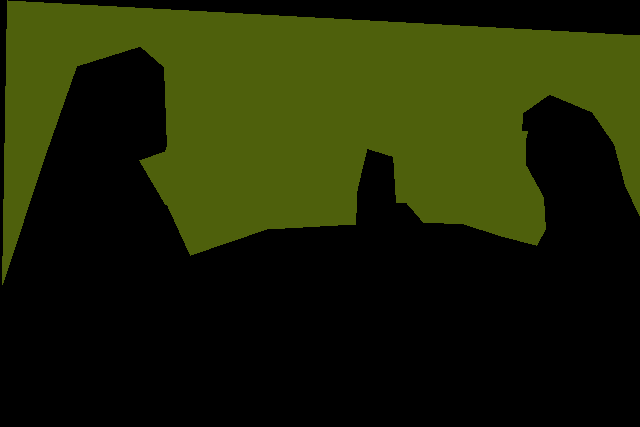Train: (2, 0, 640, 284), (139, 122, 528, 205)
